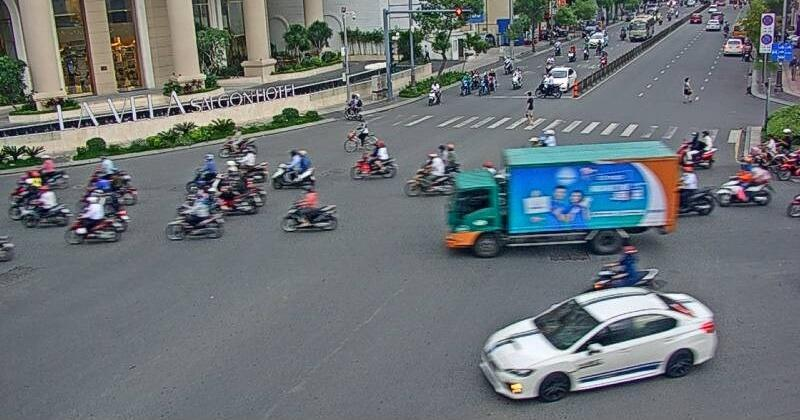xe dap: (342, 119, 379, 153)
xe hoi: (480, 288, 715, 402)
xe may: (278, 186, 337, 232), (269, 148, 315, 190)
xe tai: (444, 138, 675, 255)
